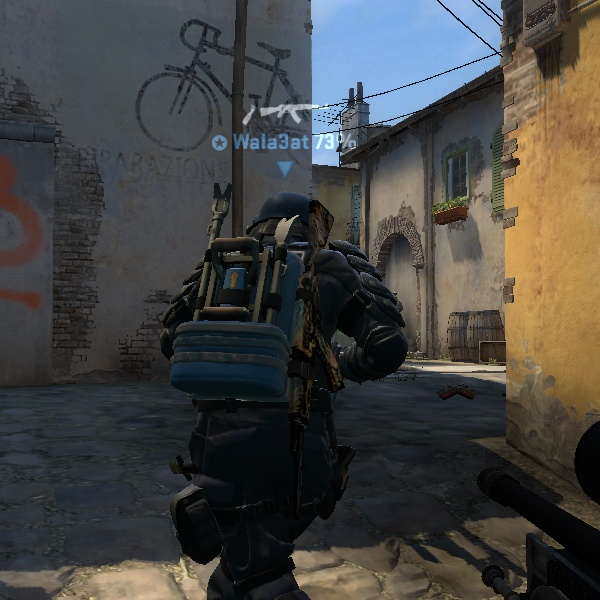ct_body: (135, 179, 418, 592)
ct_head: (243, 181, 335, 260)
